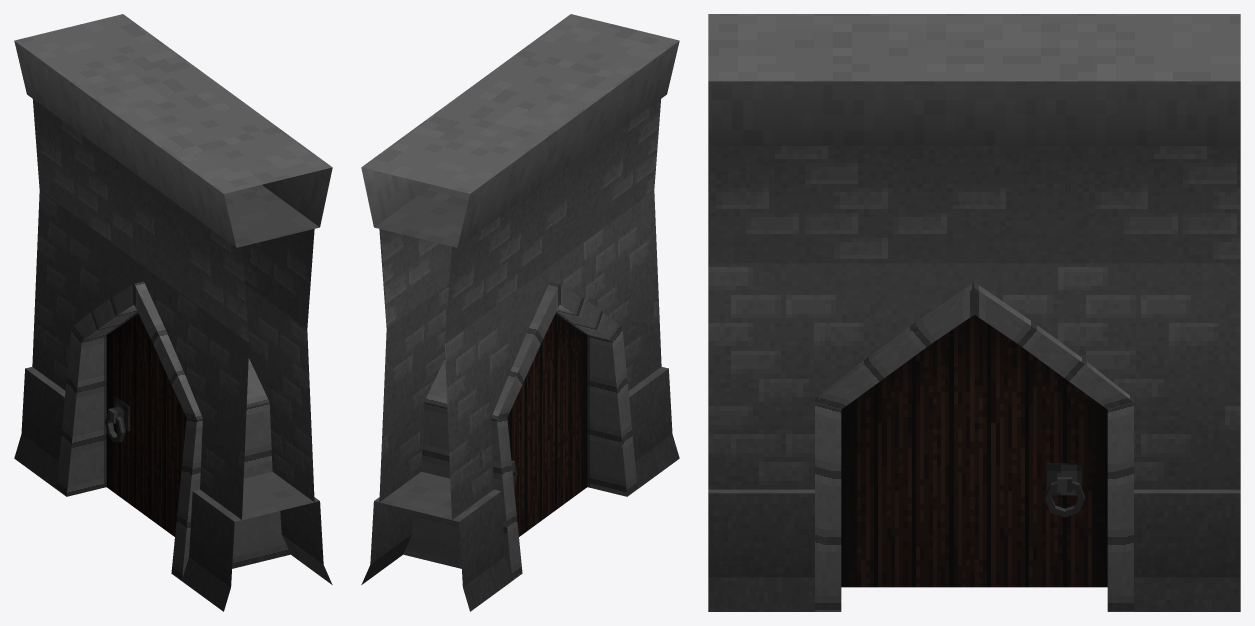
Rendered from kabe_door03.glb.
The picture shows the model from 3 angles, left to right: view 1: azimuth 30°, elevation 25°; view 2: azimuth 150°, elevation 25°; view 3: azimuth 270°, elevation 25°; orthographic projection. The views are drawn at different scales.
Parts seen in each view (by area): view 1: 3D_moderu.lwo; view 2: 3D_moderu.lwo; view 3: 3D_moderu.lwo.
Boxes of the visible parts, x1,y1,x2,y2 form: 3D_moderu.lwo: (14, 14, 332, 611); 3D_moderu.lwo: (361, 14, 679, 611); 3D_moderu.lwo: (708, 14, 1240, 611).
Size of the model in its own units: 0.6 by 2.2 by 2.
3 materials, 3 textured.
